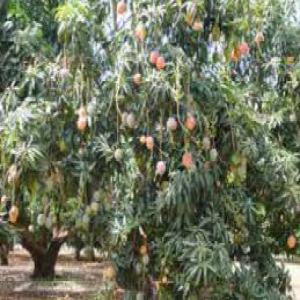Tree: (3, 2, 296, 292)
